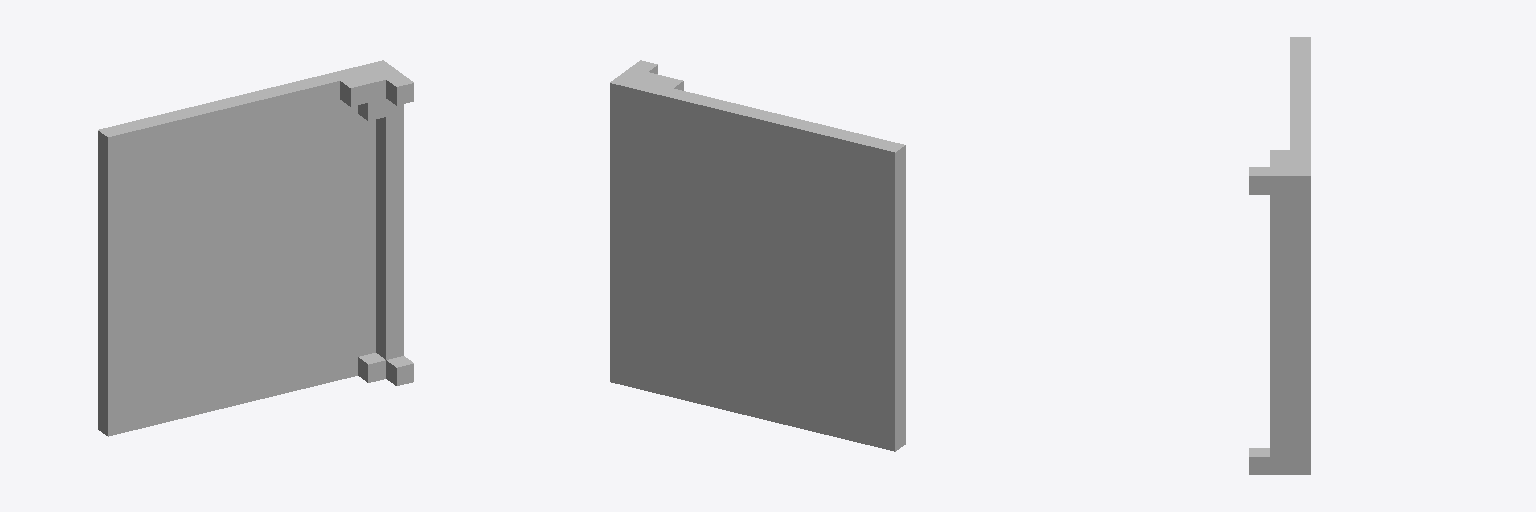
File: doorClosedR.obj
3 renders of one model, left to right at view 1: azimuth 30°, elevation 25°; view 2: azimuth 150°, elevation 25°; view 3: azimuth 270°, elevation 25°, orthographic.
Visible parts, largest first — view 1: object 1; view 2: object 1; view 3: object 1.
Part boxes in pixels (bbox=[...]): object 1: bbox=[98, 60, 413, 436]; object 1: bbox=[610, 60, 905, 451]; object 1: bbox=[1249, 37, 1310, 474].
Size of the model in its own units: 1.6 by 1.6 by 0.3.